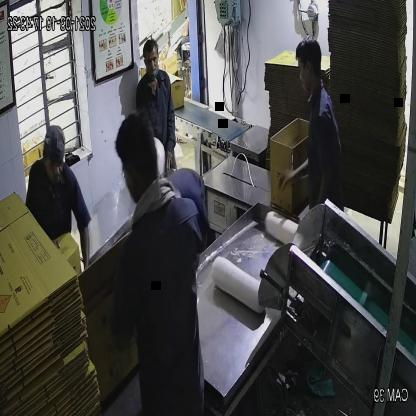no_glove: (272, 148, 315, 195), (163, 111, 179, 175)
